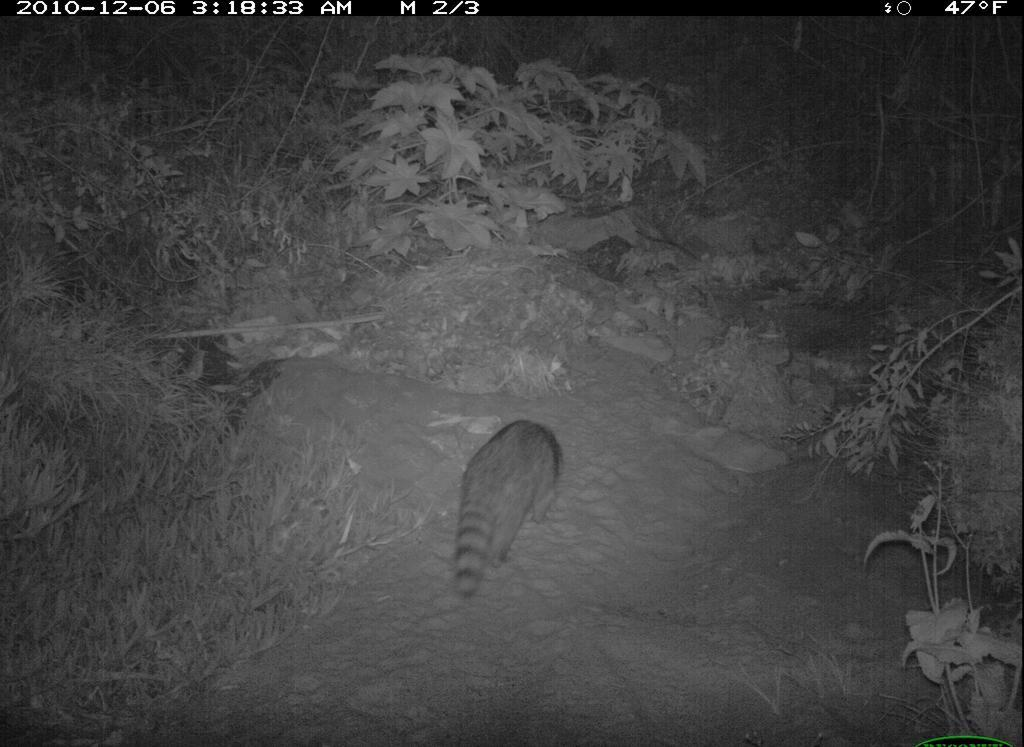raccoon: (436, 404, 579, 612)
